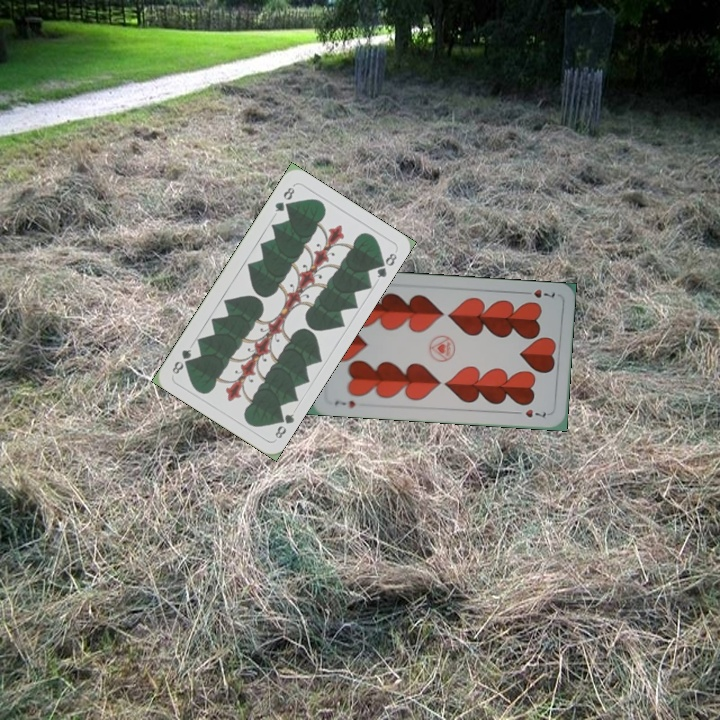G8: (271, 182, 297, 214), (271, 409, 297, 441)
H7: (519, 285, 559, 301), (330, 396, 358, 410)
